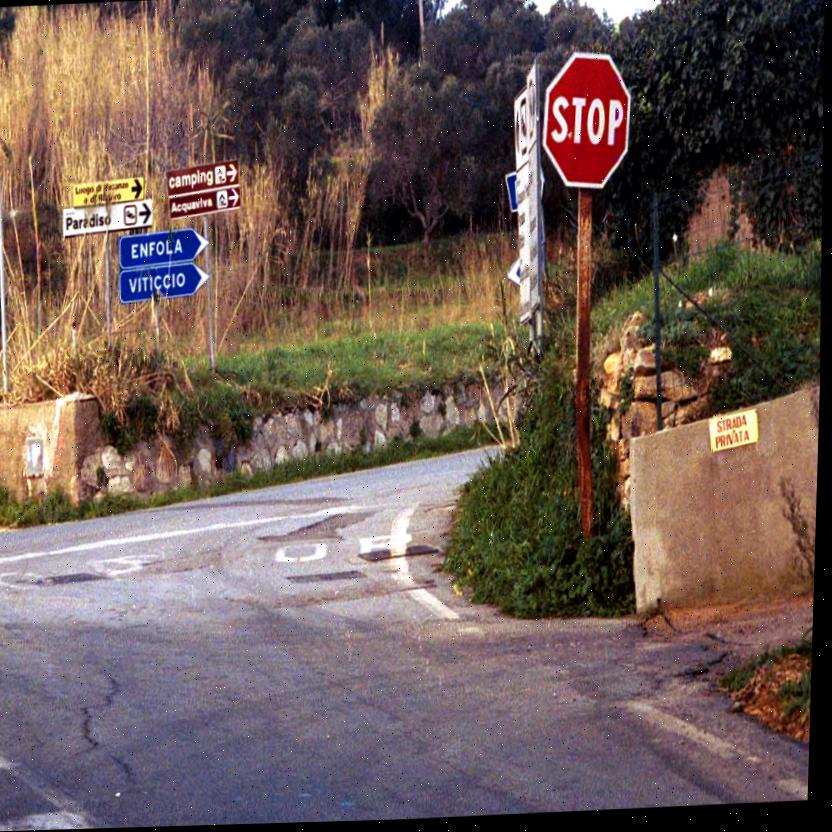Pole: (569, 198, 602, 535), (648, 203, 671, 426), (0, 180, 17, 394), (103, 232, 116, 346)
Sign: (542, 55, 636, 194)
